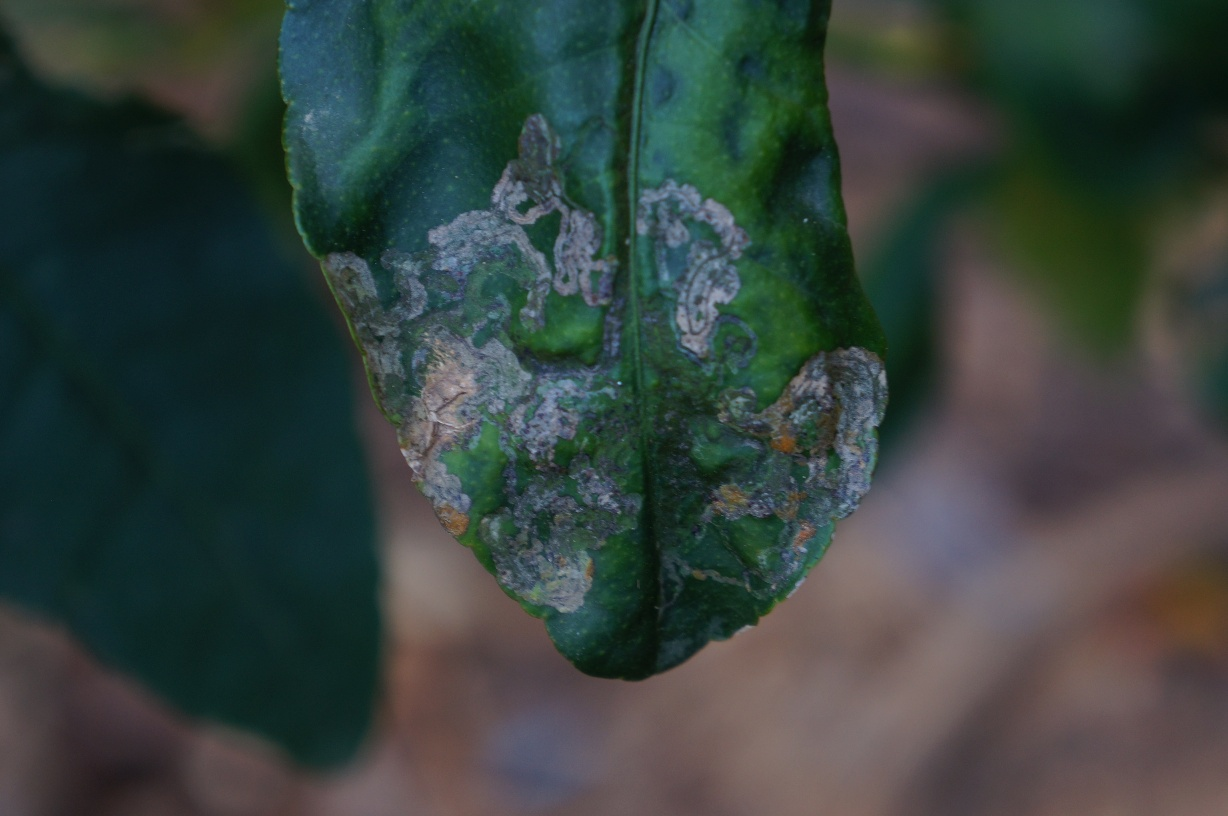damage: (311, 116, 913, 688)
